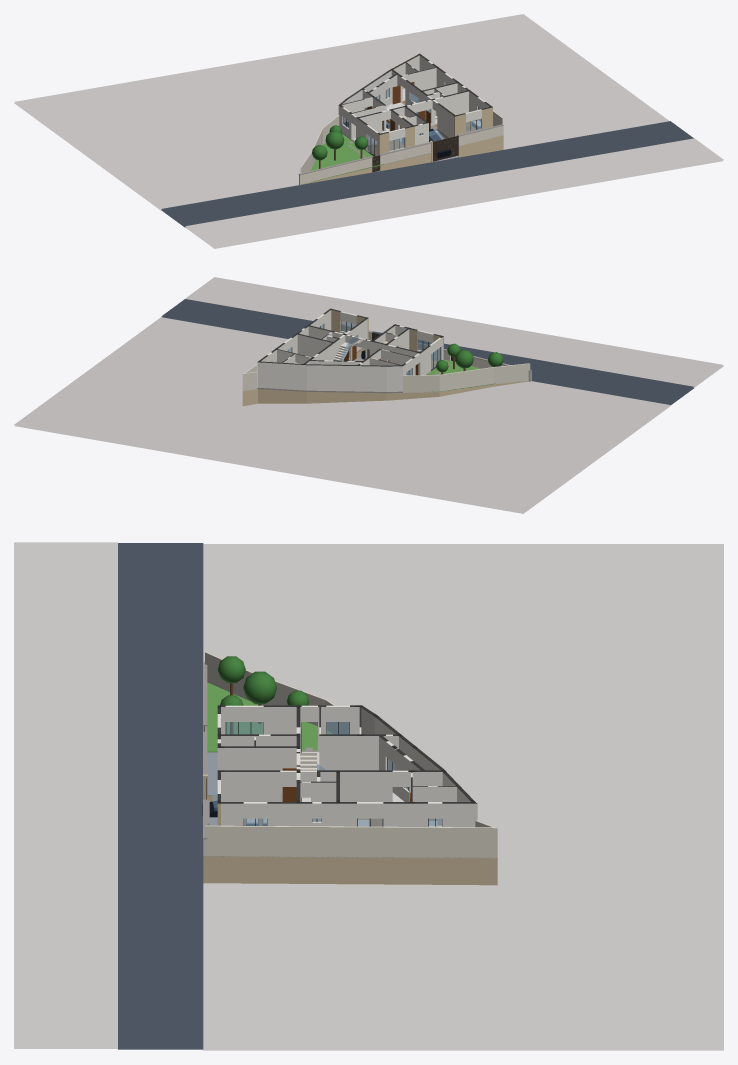
The picture shows the model from 3 angles, top to bottom: view 1: azimuth 30°, elevation 25°; view 2: azimuth 150°, elevation 25°; view 3: azimuth 270°, elevation 25°; orthographic projection. The views are drawn at different scales.
Parts seen in each view (by area): view 1: ground_n, ground_s, road, walls.009, lawn, front_w_wall, walls.011, walls.012, walls.010, walls.003, front_m_wall, walls.007 (+4 smaller); view 2: ground_n, ground_s, road, walls.009, fill, boundary, walls.011, walls.007, walls.003; view 3: ground_n, ground_s, road, boundary.001, fill, walls.009, walls.011, walls.016, walls.003, lawn, walls.014, boundary (+4 smaller).
Part boxes in pixels (box(x1,y1,x2,y2)): ground_n: box(14, 14, 669, 210); ground_s: box(185, 138, 723, 248); road: box(161, 121, 693, 227); walls.009: box(338, 55, 427, 132); lawn: box(304, 133, 383, 183); front_w_wall: box(299, 158, 372, 184); walls.011: box(405, 79, 461, 115); walls.012: box(443, 88, 477, 120); walls.010: box(408, 64, 445, 90); walls.003: box(389, 106, 428, 143); front_m_wall: box(379, 143, 430, 164); walls.007: box(356, 112, 382, 150); ground_n: box(14, 317, 669, 513); ground_s: box(185, 277, 723, 387); road: box(161, 299, 693, 405); walls.009: box(257, 356, 406, 391); fill: box(242, 348, 528, 406); boundary: box(403, 363, 530, 392); walls.011: box(291, 331, 340, 360); walls.007: box(395, 346, 430, 375); walls.003: box(370, 325, 399, 361); ground_n: box(203, 544, 723, 1050); ground_s: box(14, 542, 117, 1048); road: box(118, 543, 203, 1049); boundary.001: box(205, 820, 497, 858); fill: box(207, 795, 497, 885); walls.009: box(350, 707, 477, 827); walls.011: box(311, 772, 392, 826); walls.016: box(319, 736, 388, 770); walls.003: box(217, 736, 296, 793); lawn: box(207, 682, 331, 752); walls.014: box(221, 772, 280, 801); boundary: box(205, 651, 349, 733).
Bounding box in the file's own units: 67.06 × 7.98 × 45.72.
